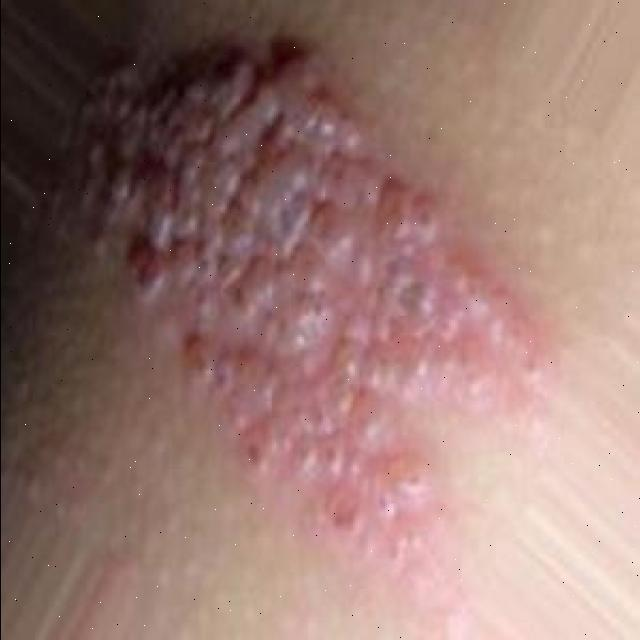Shingles: (78, 36, 555, 556)
